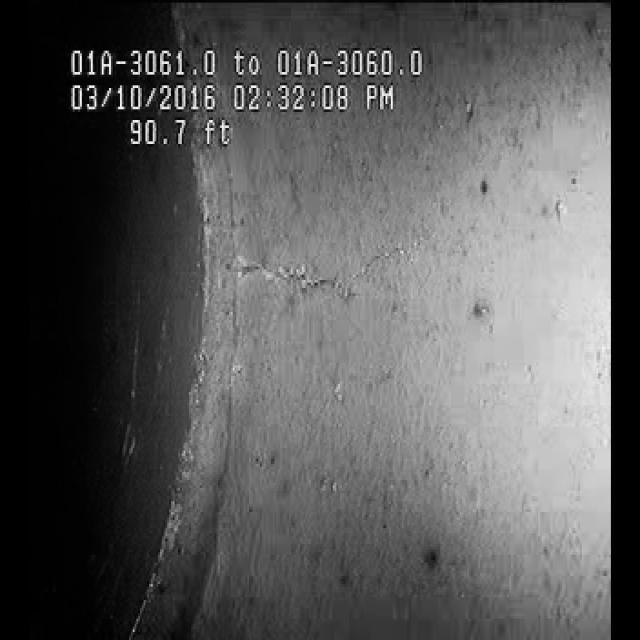Crack: (232, 191, 440, 325)
